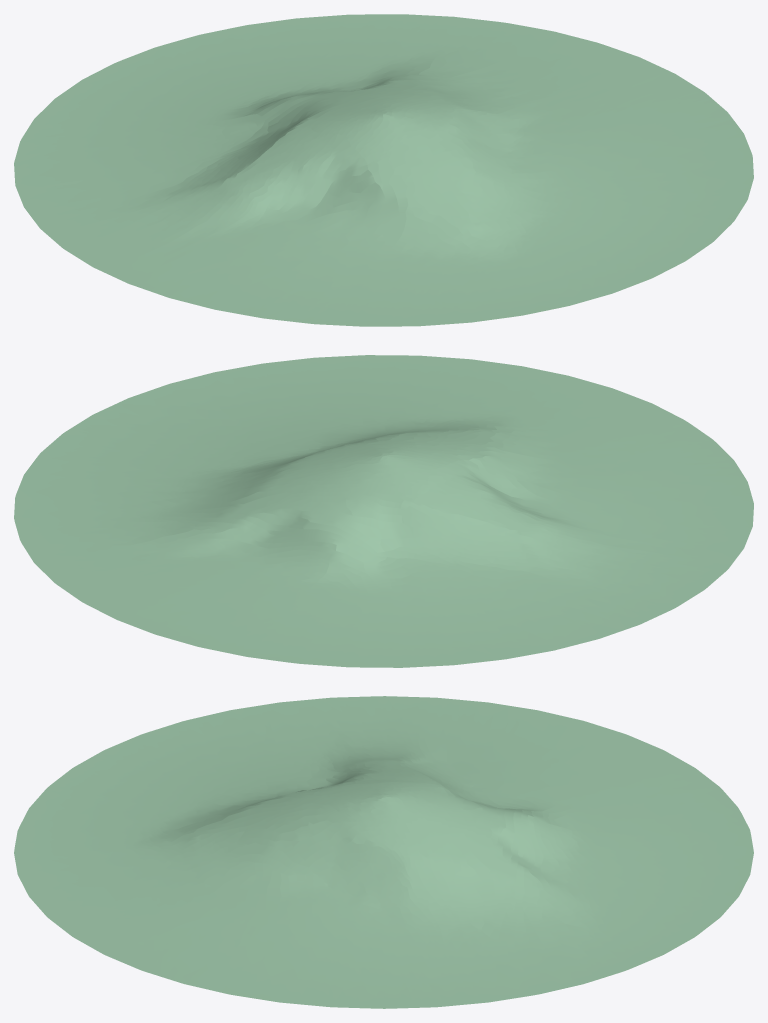
The model's file is island_coral_small_A.fbx.
3 views of the same model, one above another, from view 1: azimuth 30°, elevation 25°; view 2: azimuth 150°, elevation 25°; view 3: azimuth 270°, elevation 25° (orthographic).
Visible parts, largest first — view 1: island_coral_small_A; view 2: island_coral_small_A; view 3: island_coral_small_A.
Boxes of the visible parts, box(x1,y1,x2,y2) form: island_coral_small_A: box(14, 14, 753, 326); island_coral_small_A: box(14, 355, 753, 667); island_coral_small_A: box(14, 696, 753, 1008).
Bounding box in the file's own units: 7338 × 611 × 7338.
